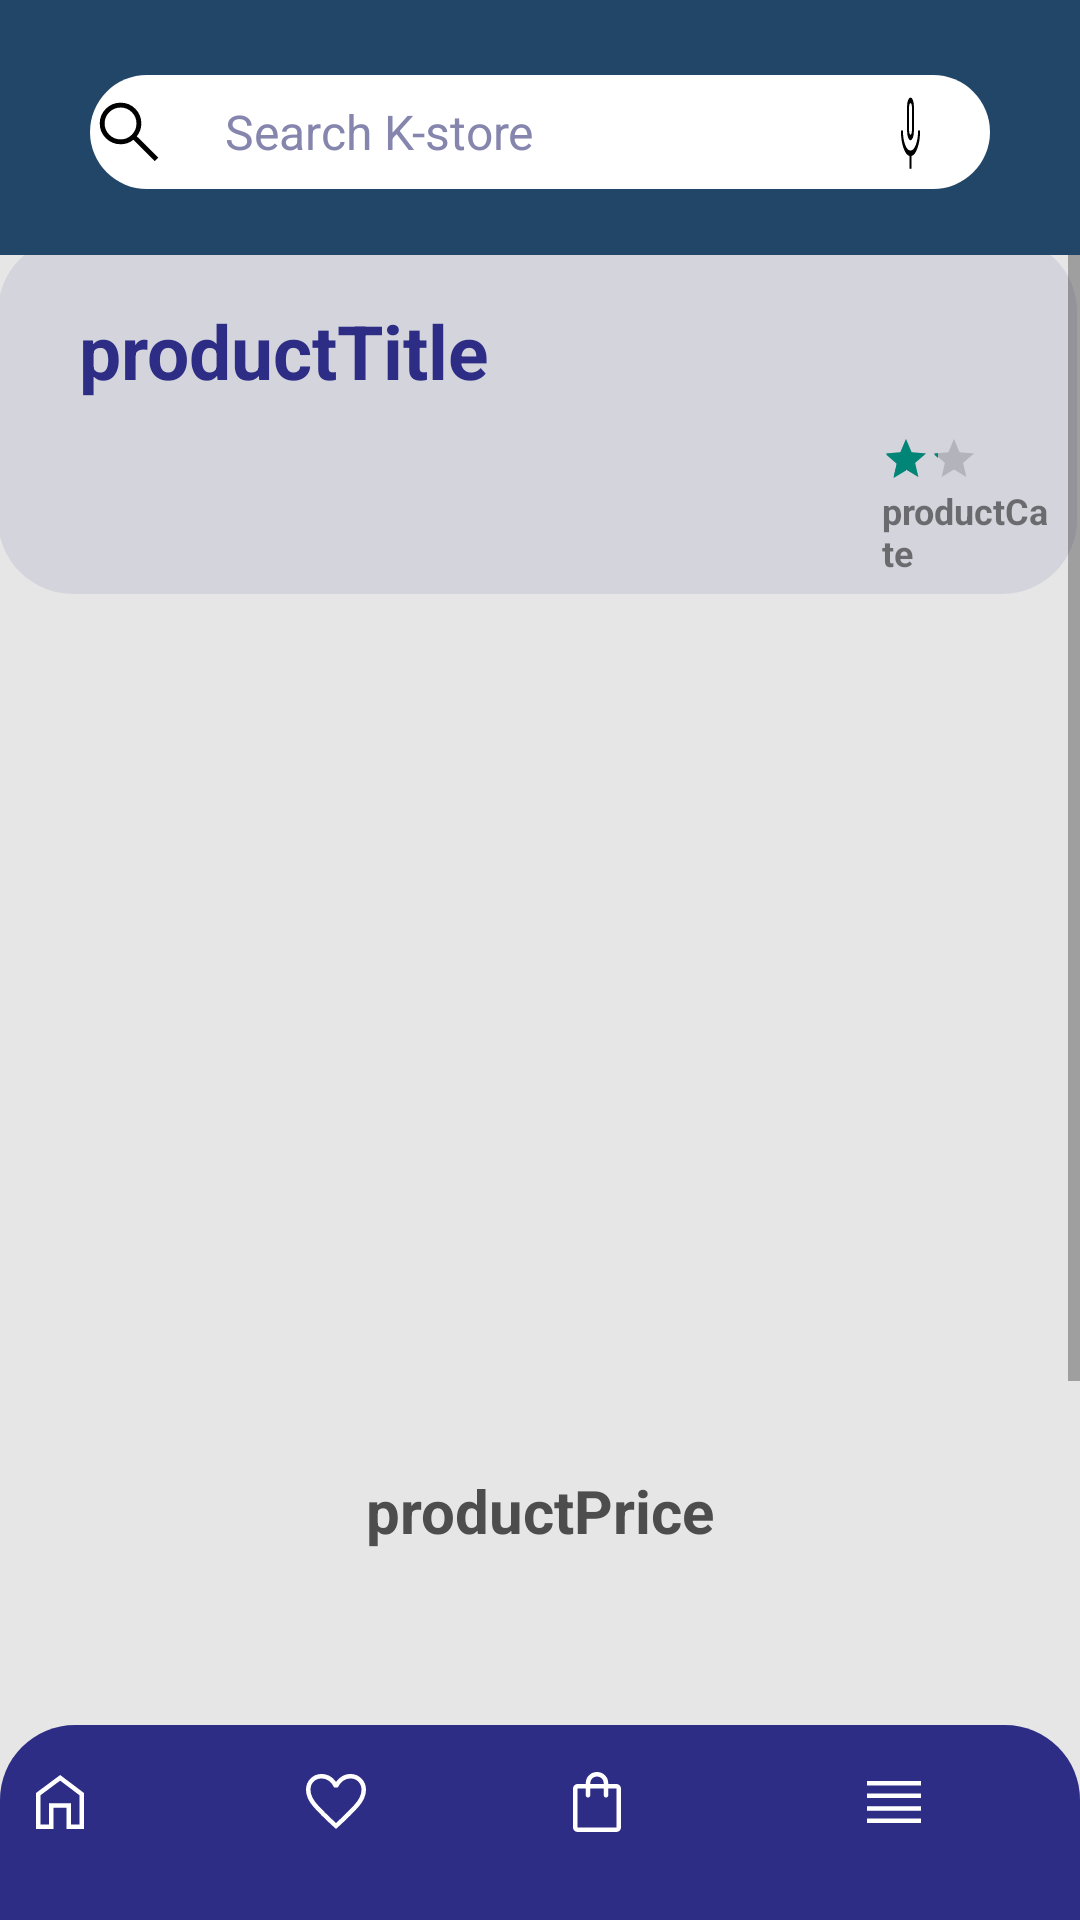

Screen size 1080w x 1920h. Icon name, then its box in pixels as bbox=[x1, y1, x2, y2]:
favorite: bbox=[306, 1774, 366, 1829]
home: bbox=[36, 1775, 84, 1829]
keyboard voice: bbox=[901, 97, 920, 169]
reorder: bbox=[867, 1781, 921, 1823]
shopping bag: bbox=[573, 1772, 621, 1832]
